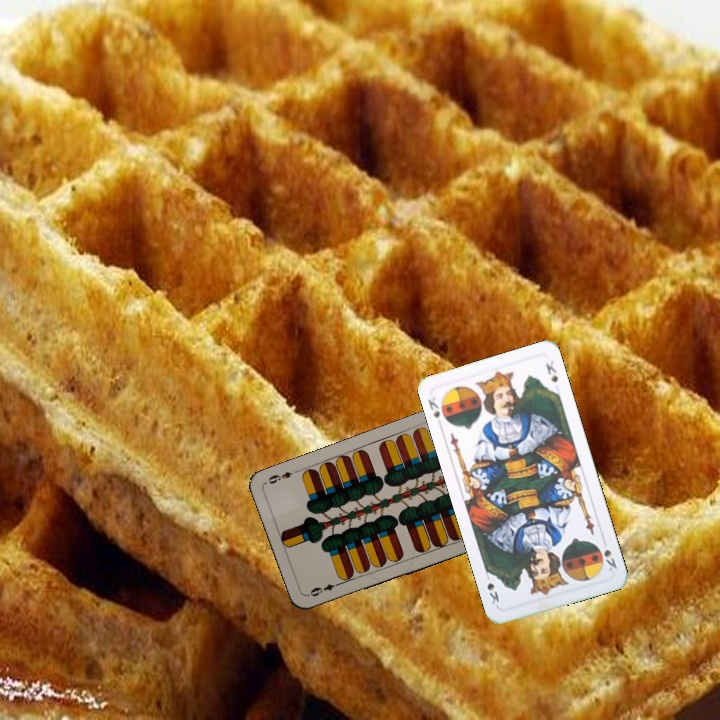E9: (306, 578, 344, 599)
SK: (600, 545, 619, 574), (424, 393, 443, 421)
